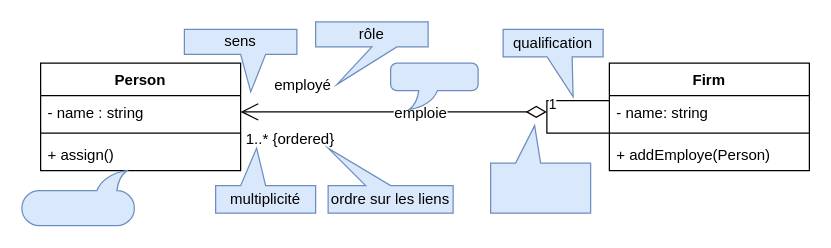
This 831x248 diagram has some shape labels left out. Each missing label, with the centre of its shape:
classe: [77,197]
name: [577,116]
nom: [433,85]
type d'association: [540,168]
